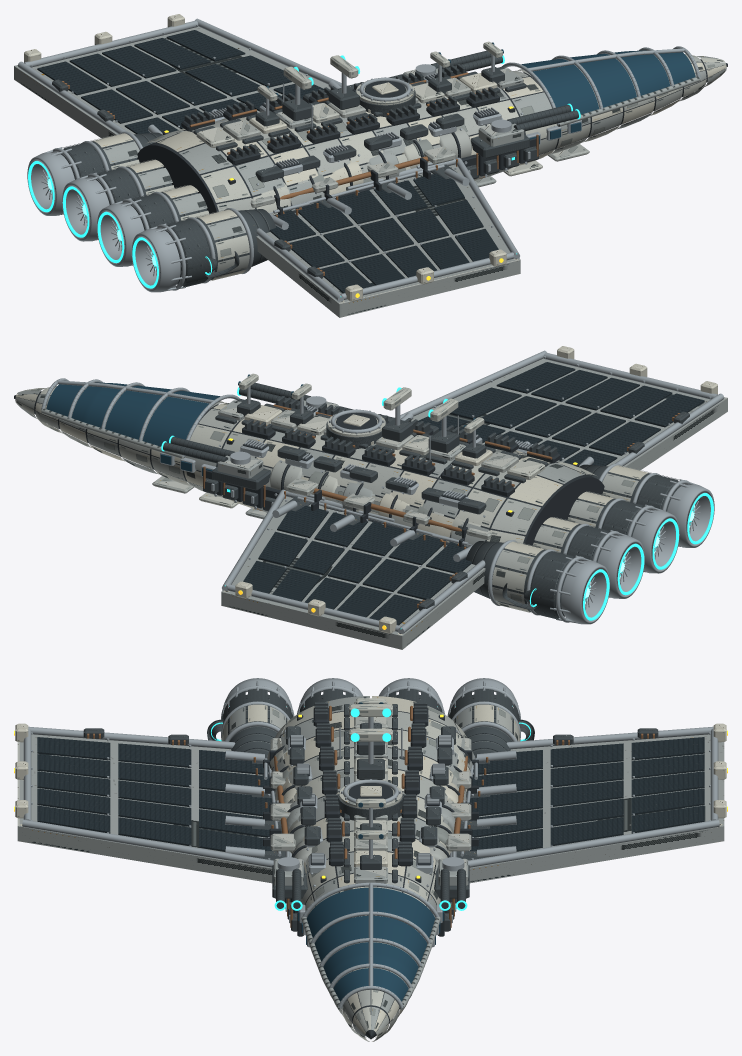
File: explorer-study.glb
3 views of the same model, one above another, from view 1: azimuth 30°, elevation 25°; view 2: azimuth 150°, elevation 25°; view 3: azimuth 270°, elevation 25° (orthographic). The views are drawn at different scales.
Visible parts, largest first — view 1: hull / body (×6), radiator / cells, radiator / frames (×2), engine / housings (×2), engine / nozzles, radiator / connectors (×3), radar / pedestal, weapons / barrels, engine / cores, radar / sensors, weapons / turrets, weapons / mounts; view 2: hull / body (×6), radiator / cells, radiator / frames (×2), engine / housings (×2), engine / nozzles, radiator / connectors (×3), radar / pedestal, weapons / barrels, engine / cores, radar / sensors, weapons / turrets, weapons / mounts; view 3: hull / body (×6), radiator / cells, radiator / frames (×3), engine / housings (×2), radiator / connectors (×3), engine / nozzles, radar / sensors, radar / pedestal, weapons / barrels, weapons / mounts, weapons / turrets.
Boxes of the visible parts, <box> form: hull / body (×6): <box>137,46,727,278</box>; radiator / cells: <box>37,30,498,293</box>; radiator / frames (×2): <box>14,14,520,317</box>; engine / housings (×2): <box>61,132,276,287</box>; engine / nozzles: <box>27,131,253,292</box>; radiator / connectors (×3): <box>30,24,493,278</box>; radar / pedestal: <box>255,67,504,126</box>; weapons / barrels: <box>431,50,578,131</box>; engine / cores: <box>28,161,158,288</box>; radar / sensors: <box>257,41,502,101</box>; weapons / turrets: <box>403,68,524,146</box>; weapons / mounts: <box>471,135,529,158</box>; hull / body (×6): <box>14,378,604,610</box>; radiator / cells: <box>243,362,704,625</box>; radiator / frames (×2): <box>221,346,727,649</box>; engine / housings (×2): <box>465,464,680,619</box>; engine / nozzles: <box>488,463,714,624</box>; radiator / connectors (×3): <box>248,356,711,610</box>; radar / pedestal: <box>237,399,486,458</box>; weapons / barrels: <box>163,382,310,463</box>; engine / cores: <box>583,493,713,620</box>; radar / sensors: <box>239,373,484,433</box>; weapons / turrets: <box>217,400,338,478</box>; weapons / mounts: <box>212,467,270,490</box>; hull / body (×6): <box>207,696,534,1041</box>; radiator / cells: <box>37,737,704,851</box>; radiator / frames (×3): <box>15,723,726,883</box>; engine / housings (×2): <box>222,689,519,757</box>; radiator / connectors (×3): <box>31,728,710,859</box>; engine / nozzles: <box>221,678,520,741</box>; radar / sensors: <box>349,698,392,839</box>; radar / pedestal: <box>357,723,384,869</box>; weapons / barrels: <box>276,868,465,908</box>; weapons / mounts: <box>272,865,469,898</box>; weapons / turrets: <box>273,858,468,885</box>.
Size of the model in its own units: 11.59 by 2.68 by 10.41.
10 materials, 3 textured.
